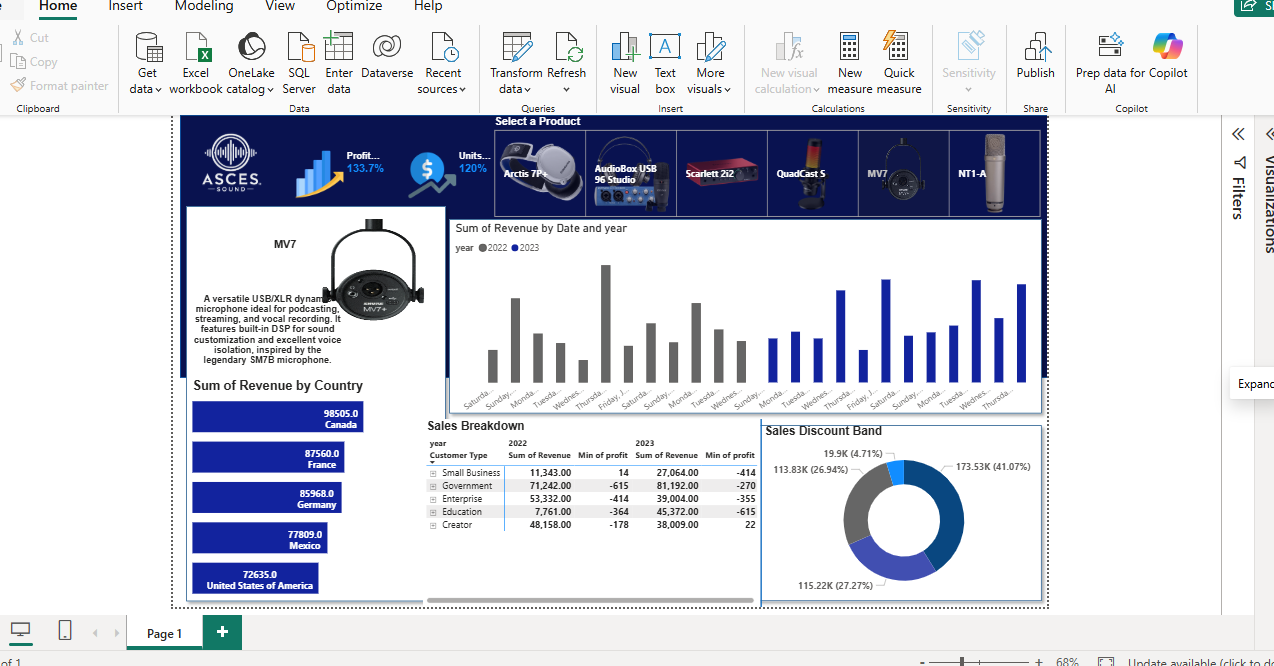

Layout of this report page (visuals, bound fields, positions):
{"tool":"powerbi","page":{"name":"Page 1","canvas":[1280,720],"ordinal":0},"visuals":[{"type":"shape","box":[10.1,0,1269.9,384.7],"z":0},{"type":"shape","box":[10.1,124.3,398.1,596.3],"z":1000},{"type":"shape","box":[394.8,142.8,885.2,302.4],"z":2000},{"type":"shape","box":[441.8,445.1,838.2,275.5],"z":3000},{"type":"image","box":[23.5,11.8,114.2,112.5],"z":4000},{"type":"advancedSlicerVisual","title":"Select a Product","fields":{"Values":["Query1.Image url"],"Label":["Min(Query1.Product)"]},"box":[465.3,0,814.7,154.5],"z":5000},{"type":"cardVisual","fields":{"Rows":["Query1.Product"],"Data":["Query1.Selected Product Image"]},"box":[134.4,126,273.8,193.2],"z":6000},{"type":"card","fields":{"Values":["Min(Query1.Description)"]},"box":[23.5,223.4,230.1,173],"z":7000},{"type":"clusteredBarChart","fields":{"Category":["Query1.Country"],"Y":["Sum(Query1.Revenue)"]},"box":[23.5,384.7,309.1,322.5],"z":8000},{"type":"clusteredColumnChart","fields":{"Y":["Sum(Query1.Revenue)"],"Series":["Query1.year"],"Category":["Query1.Date"]},"box":[408.2,154.5,858.4,290.6],"z":9000},{"type":"donutChart","title":"Sales Discount Band","fields":{"Category":["Query1.Discount Band"],"Y":["Sum(Query1.Revenue)"]},"box":[860.1,451.9,418.3,262],"z":10000},{"type":"pivotTable","title":"Sales Breakdown ","fields":{"Rows":["Query1.Customer Type","Query1.Product"],"Columns":["Query1.year"],"Values":["Sum(Query1.Revenue)","Min(Query1.profit)"]},"box":[366.2,445.1,493.9,275.5],"z":11000},{"type":"shape","box":[710.6,445.1,299,275.5],"z":12000},{"type":"cardVisual","fields":{"Data":["Query1.Profit YoY","Query1.Units Sold YoY"]},"box":[162.9,11.8,337.6,154.5],"z":13000}]}

Visuals, with their boxes on the page's 1280x720 design canvas (x1, y1, x2, y2). These are canvas units, not pixel positions in the 1274x666 screenshot, which may show the page scaled, cropped or inside an application window:
shape: <box>10,0,1280,385</box>
shape: <box>10,124,408,721</box>
shape: <box>395,143,1280,445</box>
shape: <box>442,445,1280,721</box>
image: <box>24,12,138,124</box>
"Select a Product" advancedSlicerVisual: <box>465,0,1280,154</box>
cardVisual - Query1.Product x Query1.Selected Product Image: <box>134,126,408,319</box>
card - Min(Query1.Description): <box>24,223,254,396</box>
clusteredBarChart - Query1.Country x Sum(Query1.Revenue): <box>24,385,333,707</box>
clusteredColumnChart - Sum(Query1.Revenue) x Query1.year: <box>408,154,1267,445</box>
"Sales Discount Band" donutChart: <box>860,452,1278,714</box>
"Sales Breakdown " pivotTable: <box>366,445,860,721</box>
shape: <box>711,445,1010,721</box>
cardVisual - Query1.Profit YoY x Query1.Units Sold YoY: <box>163,12,500,166</box>
